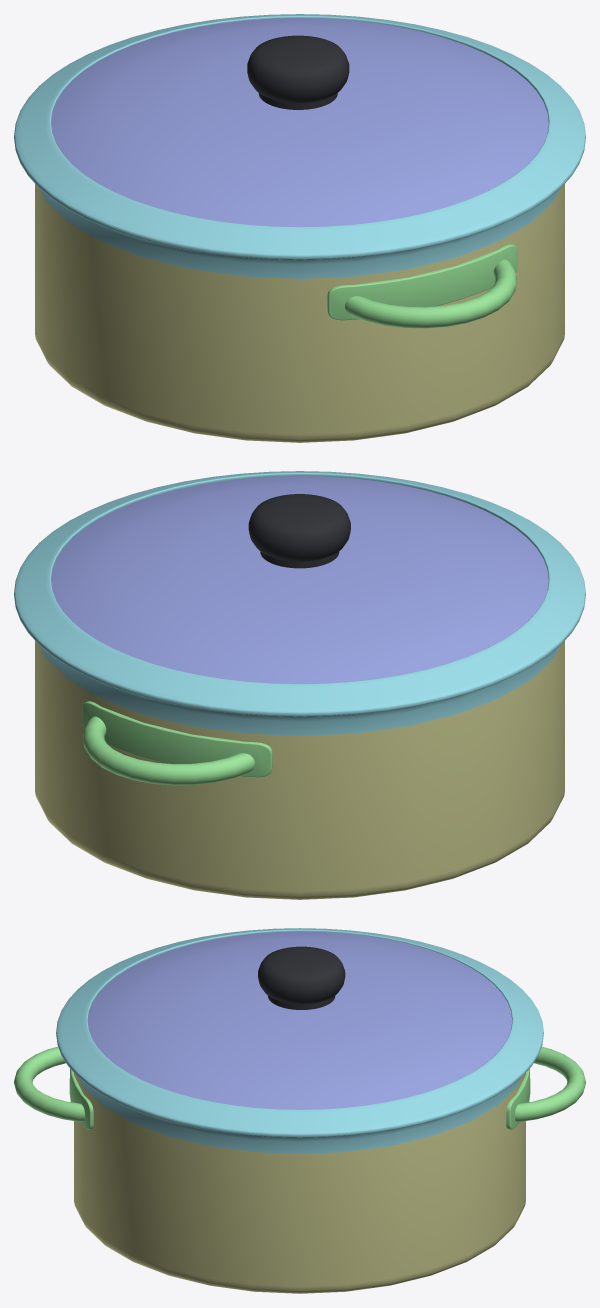
File: Tencere.fbx
3 views of the same model, one above another, from view 1: azimuth 30°, elevation 25°; view 2: azimuth 150°, elevation 25°; view 3: azimuth 270°, elevation 25° (orthographic). The views are drawn at different scales.
Visible parts, largest first — view 1: Tencere (×5); view 2: Tencere (×5); view 3: Tencere (×5).
Part boxes in pixels (box(x1,y1,x2,y2)): Tencere (×5): box(14, 14, 585, 442); Tencere (×5): box(14, 471, 585, 899); Tencere (×5): box(14, 928, 585, 1293).
Bounding box in the file's own units: 272 × 149 × 319.
